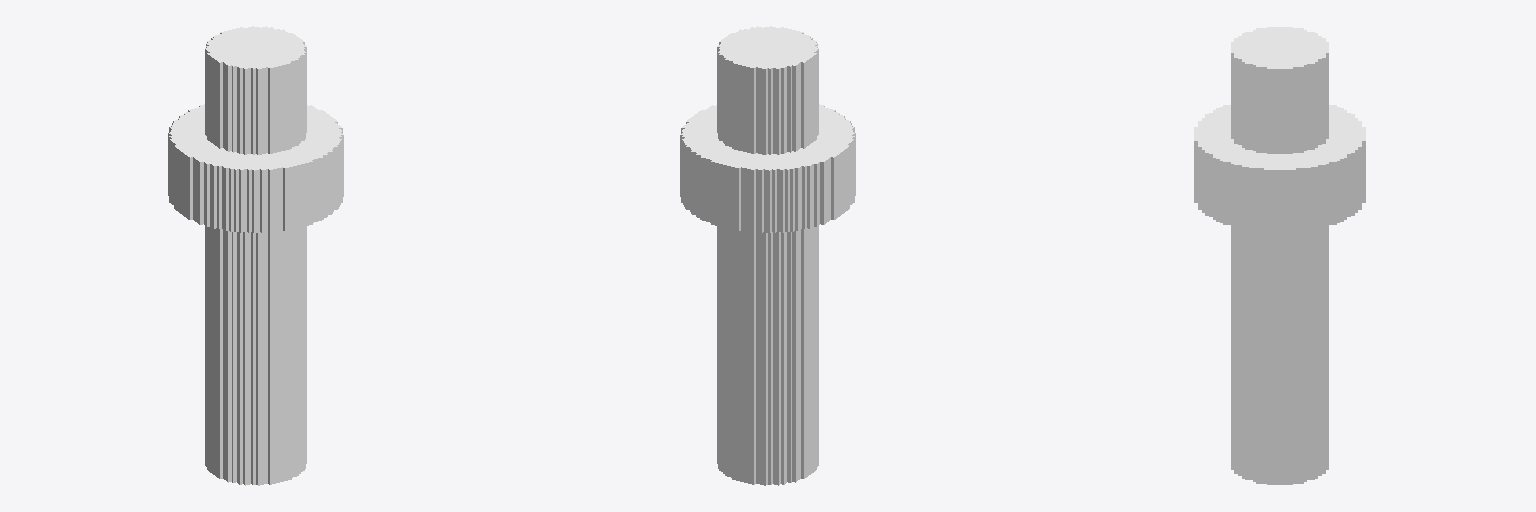
File: TorreFaccat.obj
3 renders of one model, left to right at view 1: azimuth 30°, elevation 25°; view 2: azimuth 150°, elevation 25°; view 3: azimuth 270°, elevation 25°, orthographic.
Parts seen in each view (by area): view 1: object 1; view 2: object 1; view 3: object 1.
Part boxes in pixels (left/top/right/bottom): object 1: left=168, top=26, right=343, bottom=485; object 1: left=680, top=26, right=855, bottom=485; object 1: left=1194, top=27, right=1365, bottom=484.
Bounding box in the file's own units: 4.7 × 12.6 × 4.7.